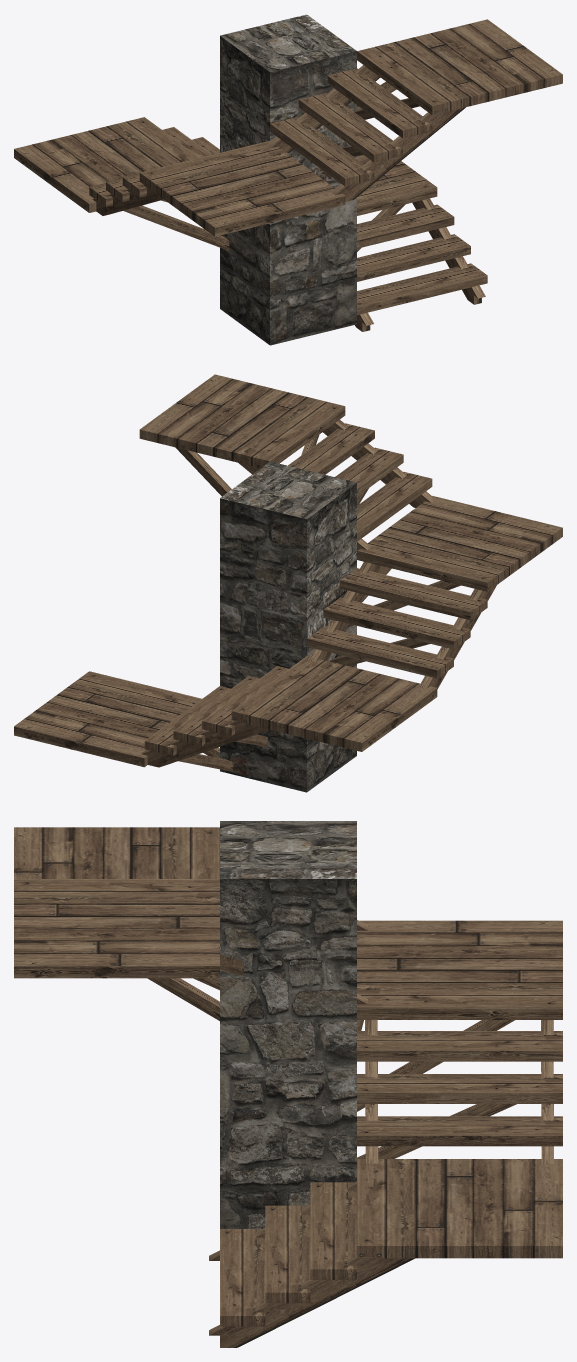
Rendered from spiralStaircaseCC.dae.
3 renders of one model, top to bottom at view 1: azimuth 30°, elevation 25°; view 2: azimuth 150°, elevation 25°; view 3: azimuth 270°, elevation 25°, orthographic. The views are drawn at different scales.
Visible parts, largest first — view 1: Staircase, Column; view 2: Staircase, Column; view 3: Staircase, Column.
Boxes of the visible parts, x1=… form: Staircase: x1=14, y1=19, x2=562, y2=331; Column: x1=220, y1=14, x2=356, y2=345; Staircase: x1=14, y1=374, x2=562, y2=771; Column: x1=220, y1=461, x2=356, y2=792; Staircase: x1=14, y1=827, x2=562, y2=1347; Column: x1=220, y1=821, x2=356, y2=1228.
Size of the model in its own units: 4 by 3.1 by 4.
Materials: 2 (2 with a texture image).
